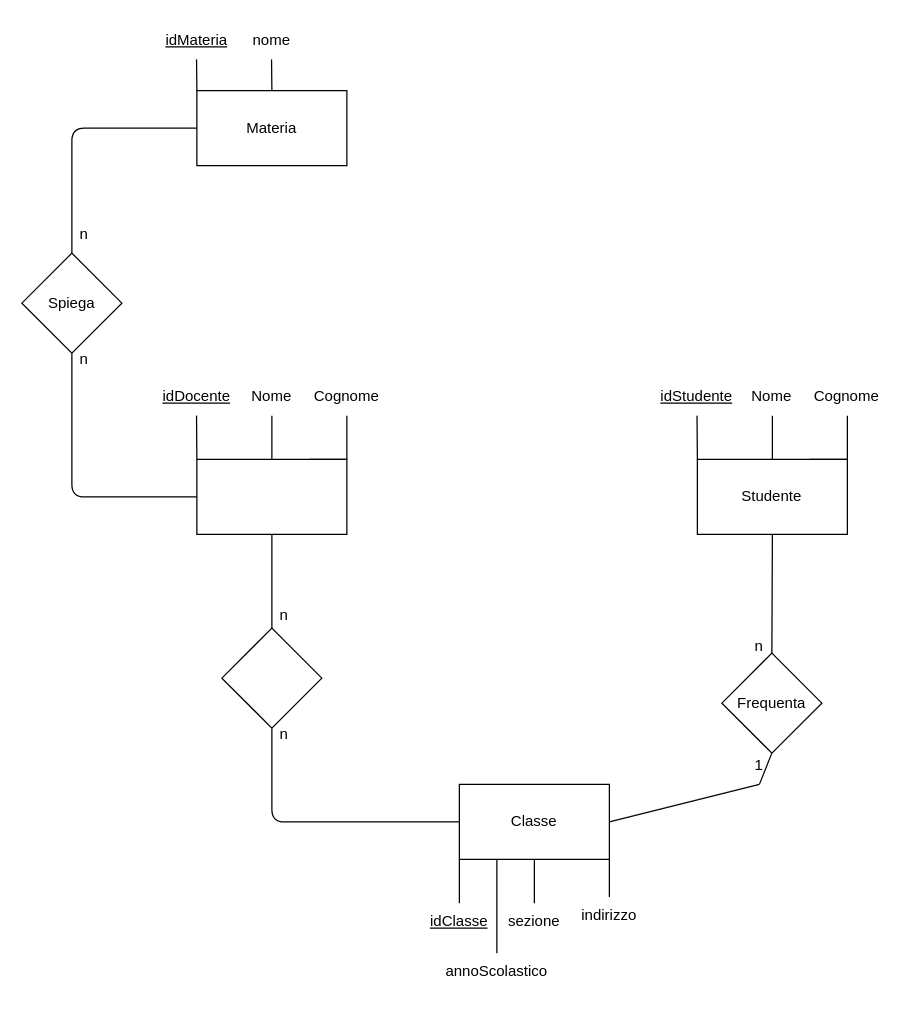
Image size: 906x1011. Some labels were removed from this diagram. Here are the shapes that lost their labels. From the top down, the centre of each, then its label:
point 271,496: Docente
point 271,677: Insegna
